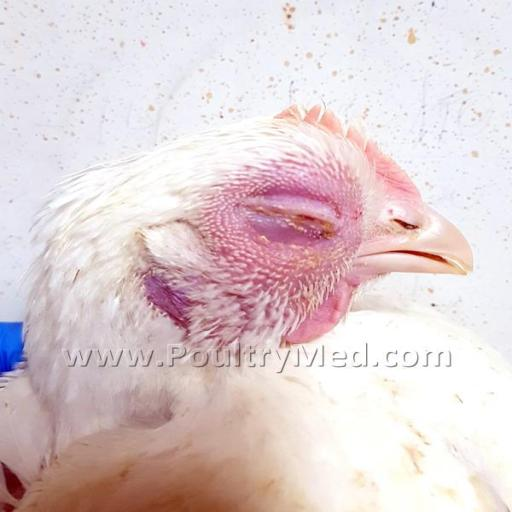disease: (92, 196, 291, 348), (194, 138, 391, 282)
